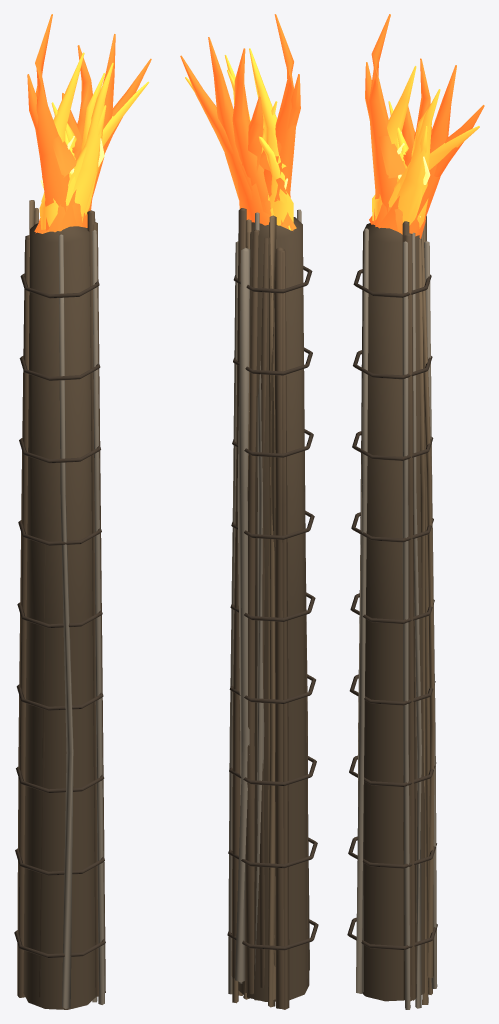
Rendered from fracchera_low.glb.
The picture shows the model from 3 angles, left to right: view 1: azimuth 30°, elevation 25°; view 2: azimuth 150°, elevation 25°; view 3: azimuth 330°, elevation 25°; orthographic projection.
Visible parts, largest first — view 1: Fracchera_Bundle, Fracchera_Flame_Static; view 2: Fracchera_Bundle, Fracchera_Flame_Static; view 3: Fracchera_Bundle, Fracchera_Flame_Static.
Part boxes in pixels (<box>): Fracchera_Bundle: <box>14,200,105,1009</box>; Fracchera_Flame_Static: <box>27,14,151,233</box>; Fracchera_Bundle: <box>227,208,318,1009</box>; Fracchera_Flame_Static: <box>180,14,300,230</box>; Fracchera_Bundle: <box>347,215,437,1009</box>; Fracchera_Flame_Static: <box>365,14,484,238</box>.
Size of the model in its own units: 0.6126 by 4.35 by 0.3775.
